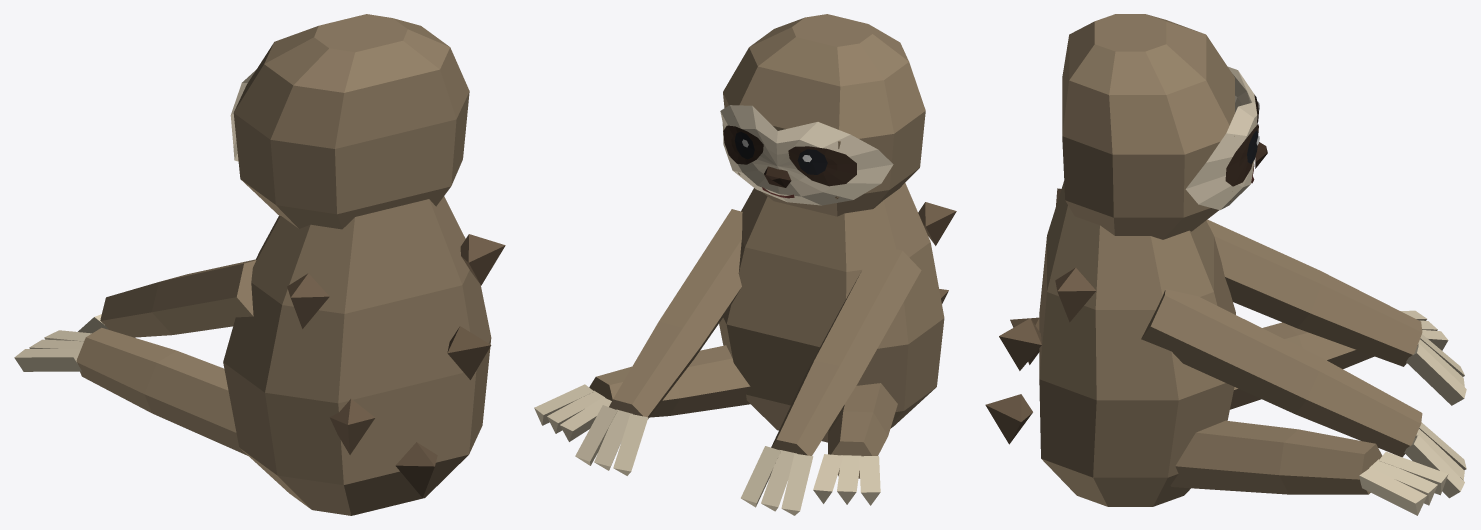
File: sloth_baby_baby.glb
3 renders of one model, left to right at view 1: azimuth 30°, elevation 25°; view 2: azimuth 150°, elevation 25°; view 3: azimuth 270°, elevation 25°, orthographic. The views are drawn at different scales.
Parts seen in each view (by area): view 1: sloth_baby_baby; view 2: sloth_baby_baby; view 3: sloth_baby_baby.
Part boxes in pixels (box(x1,y1,x2,y2)): sloth_baby_baby: box(14, 14, 505, 515); sloth_baby_baby: box(534, 14, 956, 515); sloth_baby_baby: box(985, 14, 1466, 515).
Bounding box in the file's own units: 0.2509 × 0.27 × 0.2646.
1 material, 1 textured.
